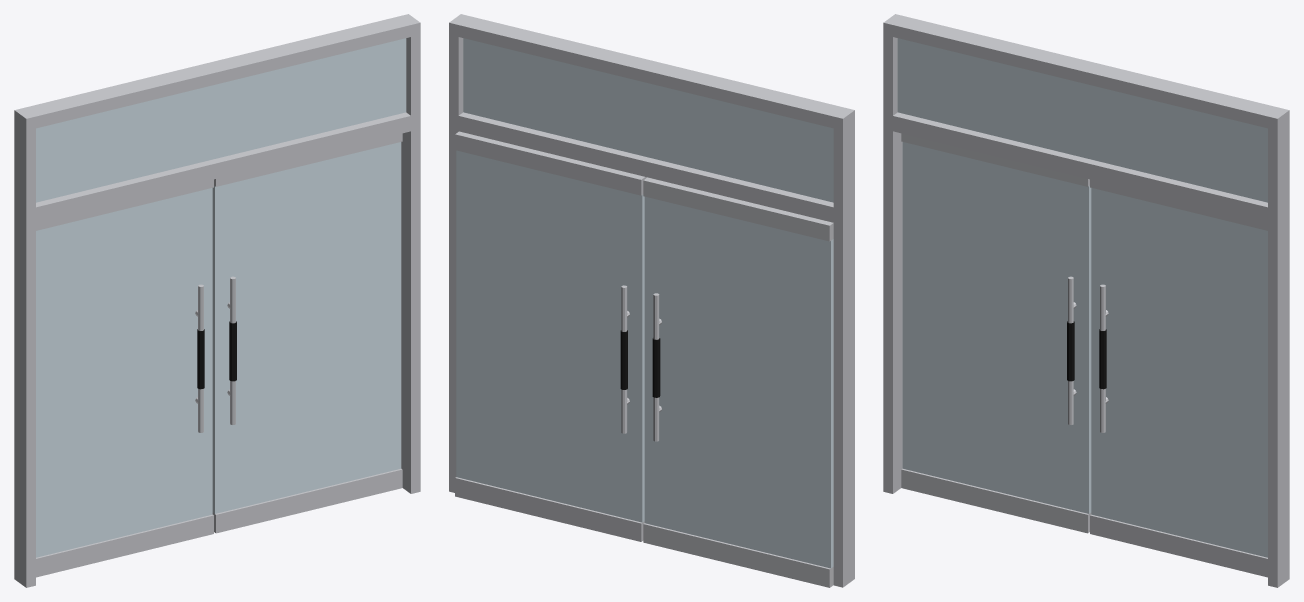
Rendered from door_closed.fbx.
3 renders of one model, left to right at view 1: azimuth 30°, elevation 25°; view 2: azimuth 150°, elevation 25°; view 3: azimuth 330°, elevation 25°, orthographic.
Parts seen in each view (by area): view 1: door_closed; view 2: door_closed; view 3: door_closed.
Boxes of the visible parts, x1,y1,x2,y2 form: door_closed: [14, 14, 420, 587]; door_closed: [449, 14, 854, 587]; door_closed: [883, 14, 1289, 587].
Size of the model in its own units: 0.0209 by 0.0238 by 0.0018.
1 material, 1 textured.
